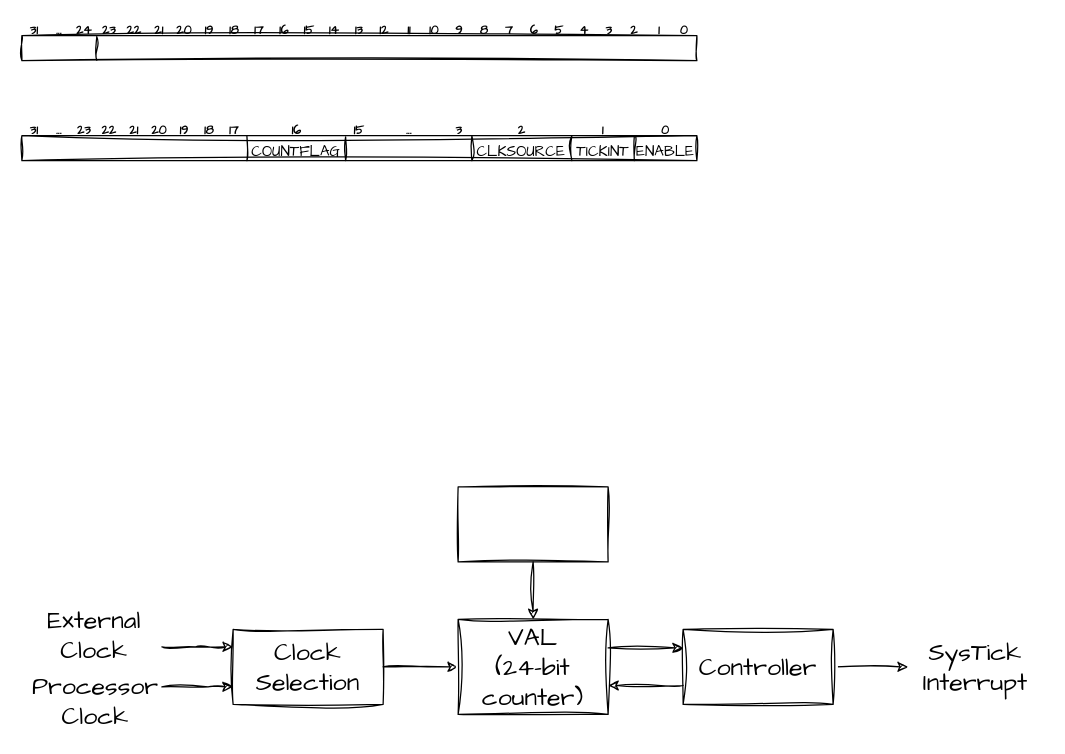
The diagram is 1065 pixels wide and 754 high, and some of its shapes have lost their labels. Each missing label, with the centre of its shape:
LOAD: (532,524)
VAL: (359,47)
